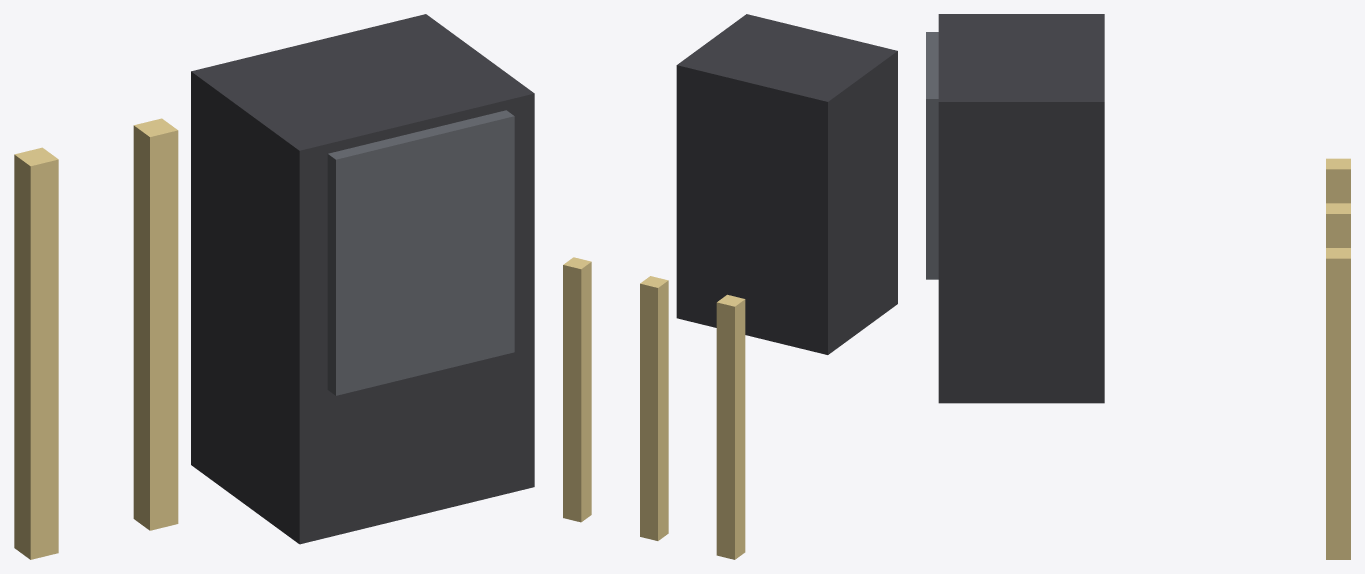
File: ir-receiver.glb
3 views of the same model, side by side, from view 1: azimuth 30°, elevation 25°; view 2: azimuth 150°, elevation 25°; view 3: azimuth 270°, elevation 25° (orthographic). The views are drawn at different scales.
Visible parts, largest first — view 1: receiver-package, leads; view 2: receiver-package, leads; view 3: receiver-package, leads.
Boxes of the visible parts, x1,y1,x2,y2 form: receiver-package: (191,14,534,544); leads: (14,118,178,559); receiver-package: (676,14,897,354); leads: (563,257,745,559); receiver-package: (926,14,1104,403); leads: (1326,158,1350,559).
Bounding box in the file's own units: 0.00568 × 0.012 × 0.0102.
